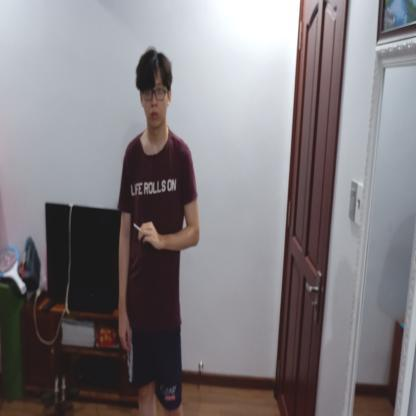cigarette: (132, 222, 142, 233)
person: (116, 46, 203, 415)
